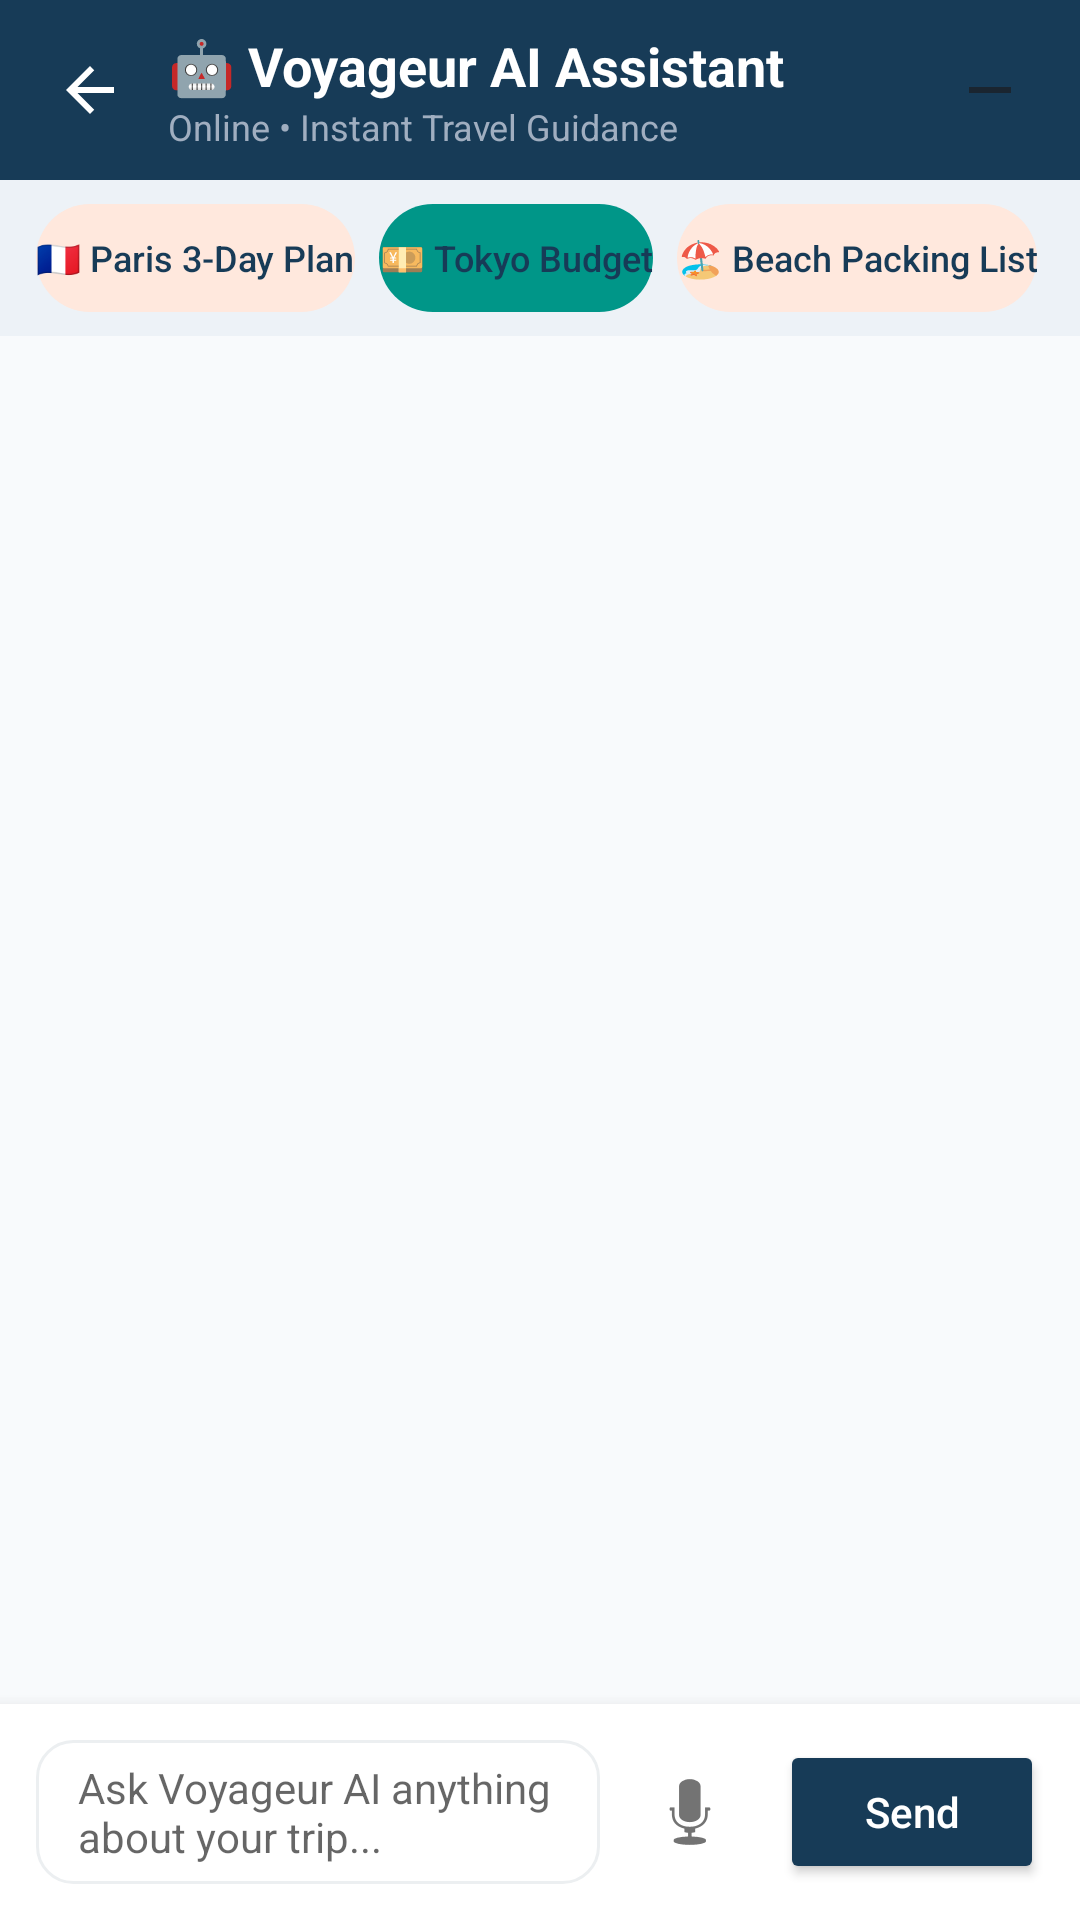

Locate icon controls on the screen. Image size 1080*1920, boxes as (x1, y1, x2, y2).
Back: (66, 66, 114, 114)
Voice Input: (669, 1779, 711, 1845)
